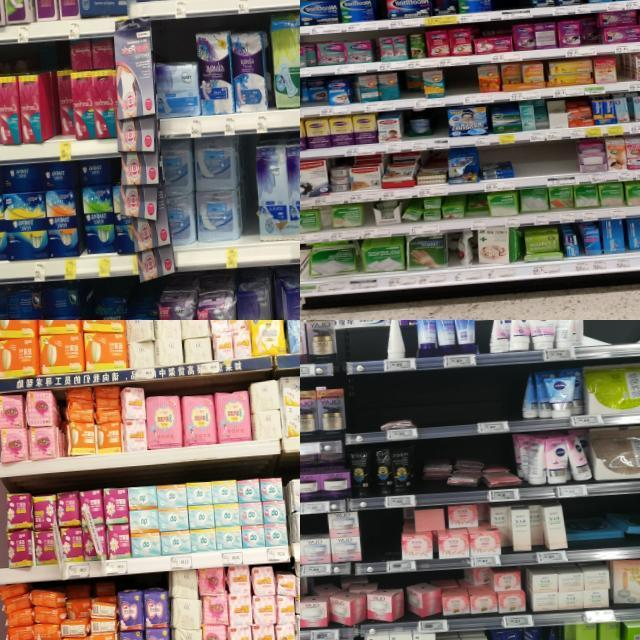empty: (414, 367, 518, 438), (514, 140, 576, 188), (358, 508, 401, 573), (242, 139, 262, 266), (583, 320, 640, 359), (344, 382, 380, 443), (344, 326, 386, 374), (444, 65, 479, 105), (429, 108, 448, 148), (492, 0, 531, 19)
